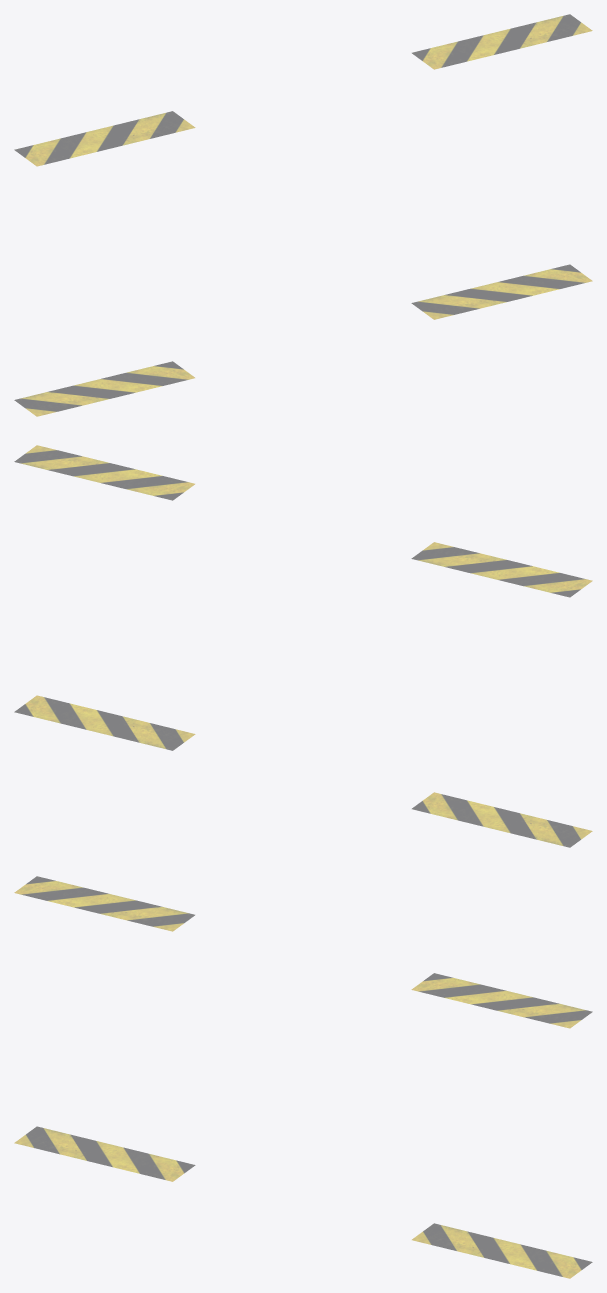
The model's file is machine2_stripes.fbx.
The picture shows the model from 3 angles, top to bottom: view 1: azimuth 30°, elevation 25°; view 2: azimuth 150°, elevation 25°; view 3: azimuth 330°, elevation 25°; orthographic projection.
Parts seen in each view (by area): view 1: Plane_512; view 2: Plane_512; view 3: Plane_512.
Part boxes in pixels (left/top/right/bottom): Plane_512: left=14, top=14, right=592, bottom=416; Plane_512: left=14, top=445, right=592, bottom=847; Plane_512: left=14, top=876, right=592, bottom=1278.
Bounding box in the file's own units: 14 × 6.02 × 1.
Materials: 1 (1 with a texture image).
